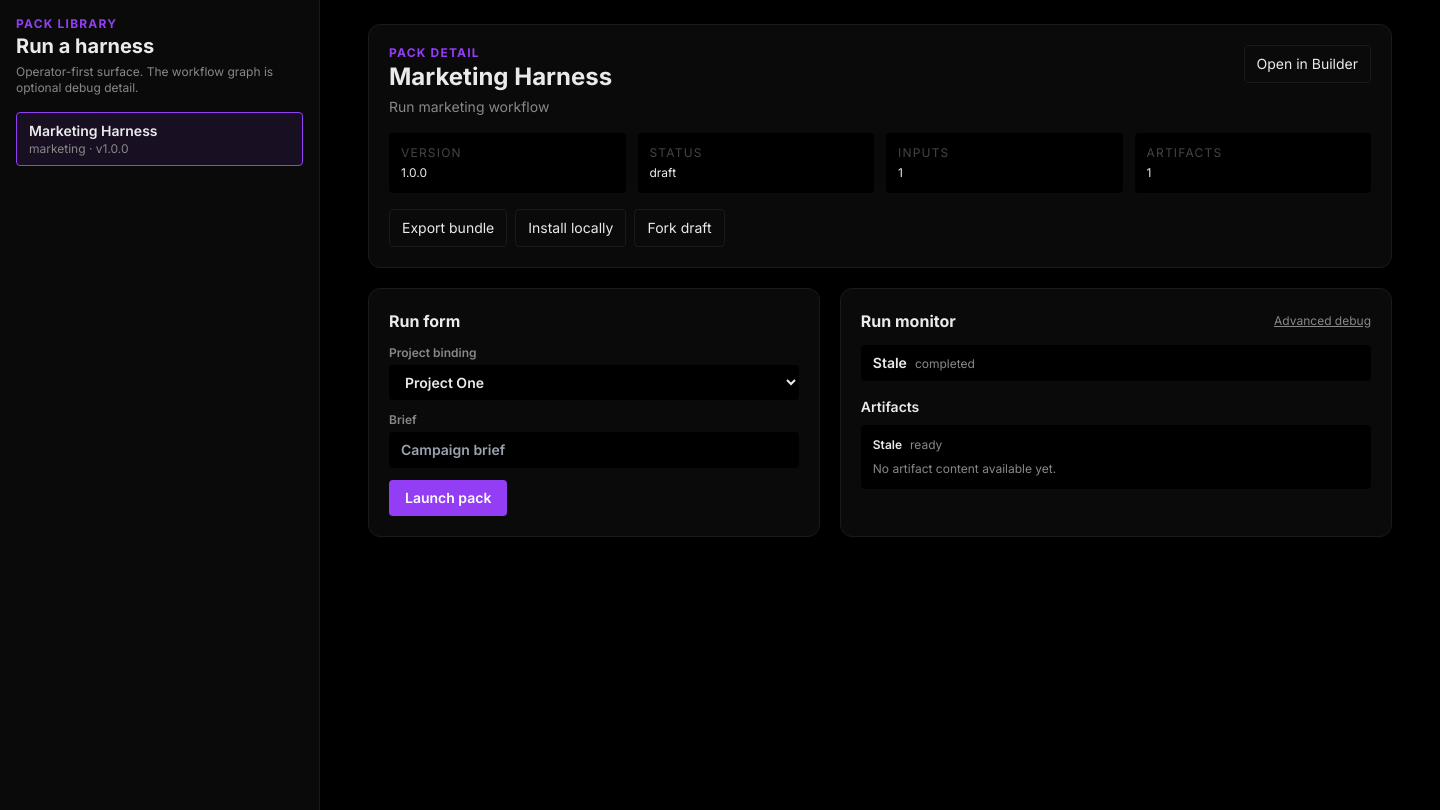
Scenario: PackLibraryView › shows launch errors and clears stale pack runtime state on failed start
Expected: the text "Pack Detail" is shown, [389,45,480,60]
Type "Launch the spring campaign" into the field labelled "Brief" at (594, 450), box [389,432,799,468]
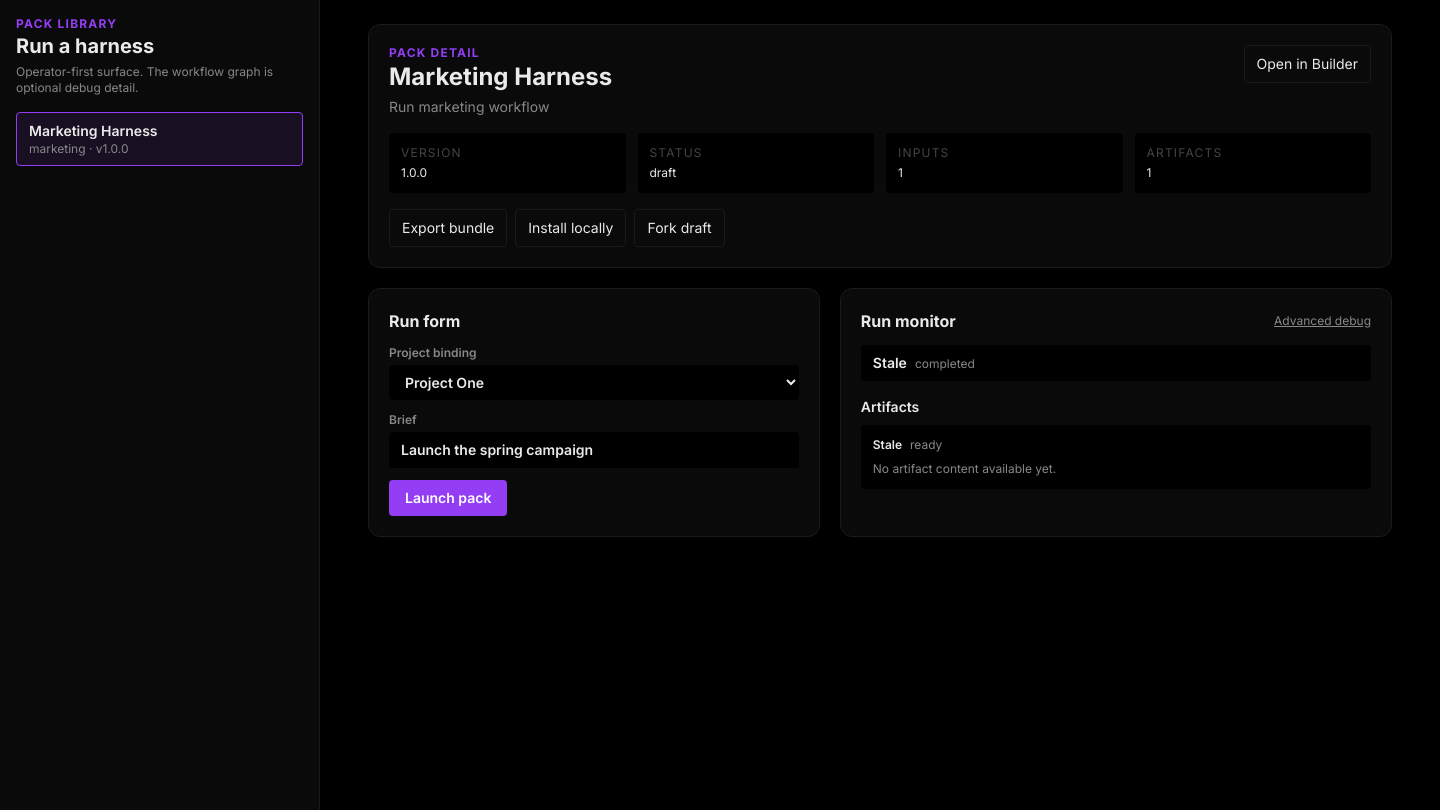
Click the button "Launch pack" at (448, 498), box [389,480,507,516]
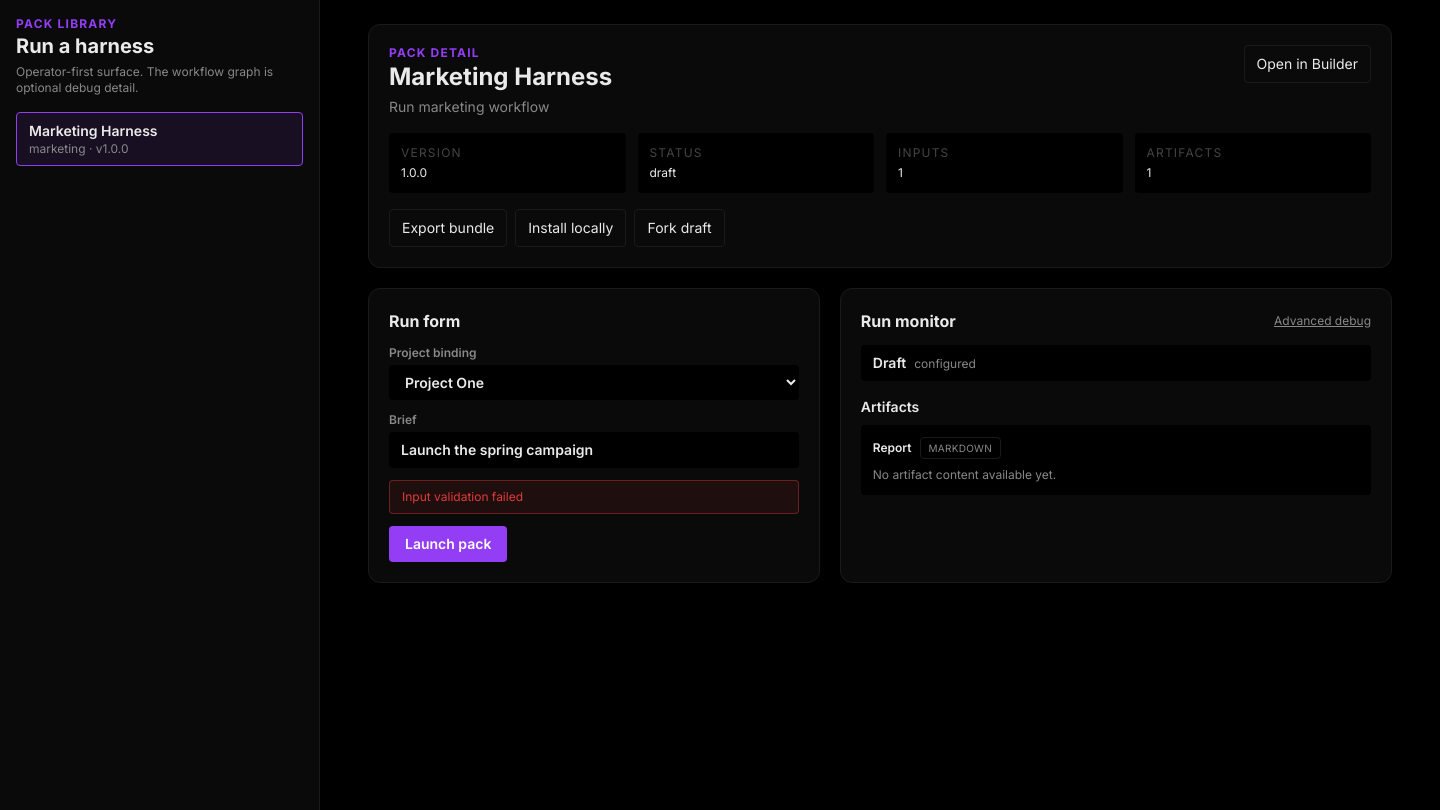
Expected: the message reads "Input validation failed", [402,489,523,504]
